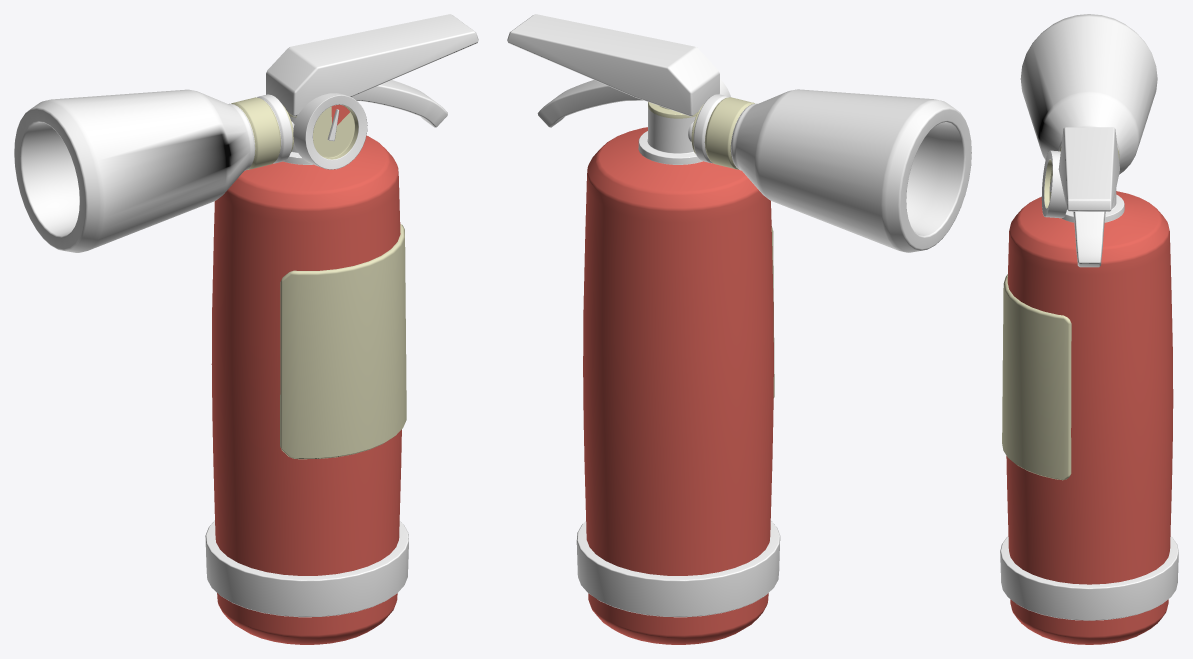
File: SM_Extinguisher_99.fbx
The picture shows the model from 3 angles, left to right: view 1: azimuth 30°, elevation 25°; view 2: azimuth 150°, elevation 25°; view 3: azimuth 270°, elevation 25°; orthographic projection. The views are drawn at different scales.
Parts seen in each view (by area): view 1: Sphere, Cylinder.006, Sphere.011, Plane.001, Sphere.001, Cylinder.001, Plane; view 2: Sphere, Cylinder.006, Plane.001, Sphere.001, Cylinder, Plane; view 3: Sphere, Cylinder.006, Sphere.011, Sphere.001, Plane.001, Plane, Cylinder.001, Cylinder.
Part boxes in pixels (x1=…): Sphere: x1=211, y1=135, x2=401, y2=644; Cylinder.006: x1=14, y1=89, x2=292, y2=252; Sphere.011: x1=280, y1=224, x2=406, y2=459; Plane.001: x1=266, y1=14, x2=478, y2=116; Sphere.001: x1=205, y1=520, x2=408, y2=617; Cylinder.001: x1=293, y1=93, x2=367, y2=169; Plane: x1=351, y1=80, x2=447, y2=127; Sphere: x1=583, y1=127, x2=773, y2=644; Cylinder.006: x1=693, y1=89, x2=971, y2=252; Plane.001: x1=507, y1=14, x2=719, y2=116; Sphere.001: x1=576, y1=520, x2=780, y2=617; Cylinder: x1=638, y1=102, x2=703, y2=164; Plane: x1=537, y1=80, x2=643, y2=127; Sphere: x1=1006, y1=191, x2=1173, y2=644; Cylinder.006: x1=1020, y1=14, x2=1157, y2=174; Sphere.011: x1=1002, y1=274, x2=1071, y2=480; Sphere.001: x1=1000, y1=536, x2=1178, y2=620; Plane.001: x1=1058, y1=127, x2=1119, y2=211; Plane: x1=1073, y1=211, x2=1105, y2=267; Cylinder.001: x1=1041, y1=150, x2=1066, y2=218; Cylinder: x1=1062, y1=189, x2=1124, y2=222.
Bounding box in the file's own units: 70.43 × 92.24 × 29.81.
